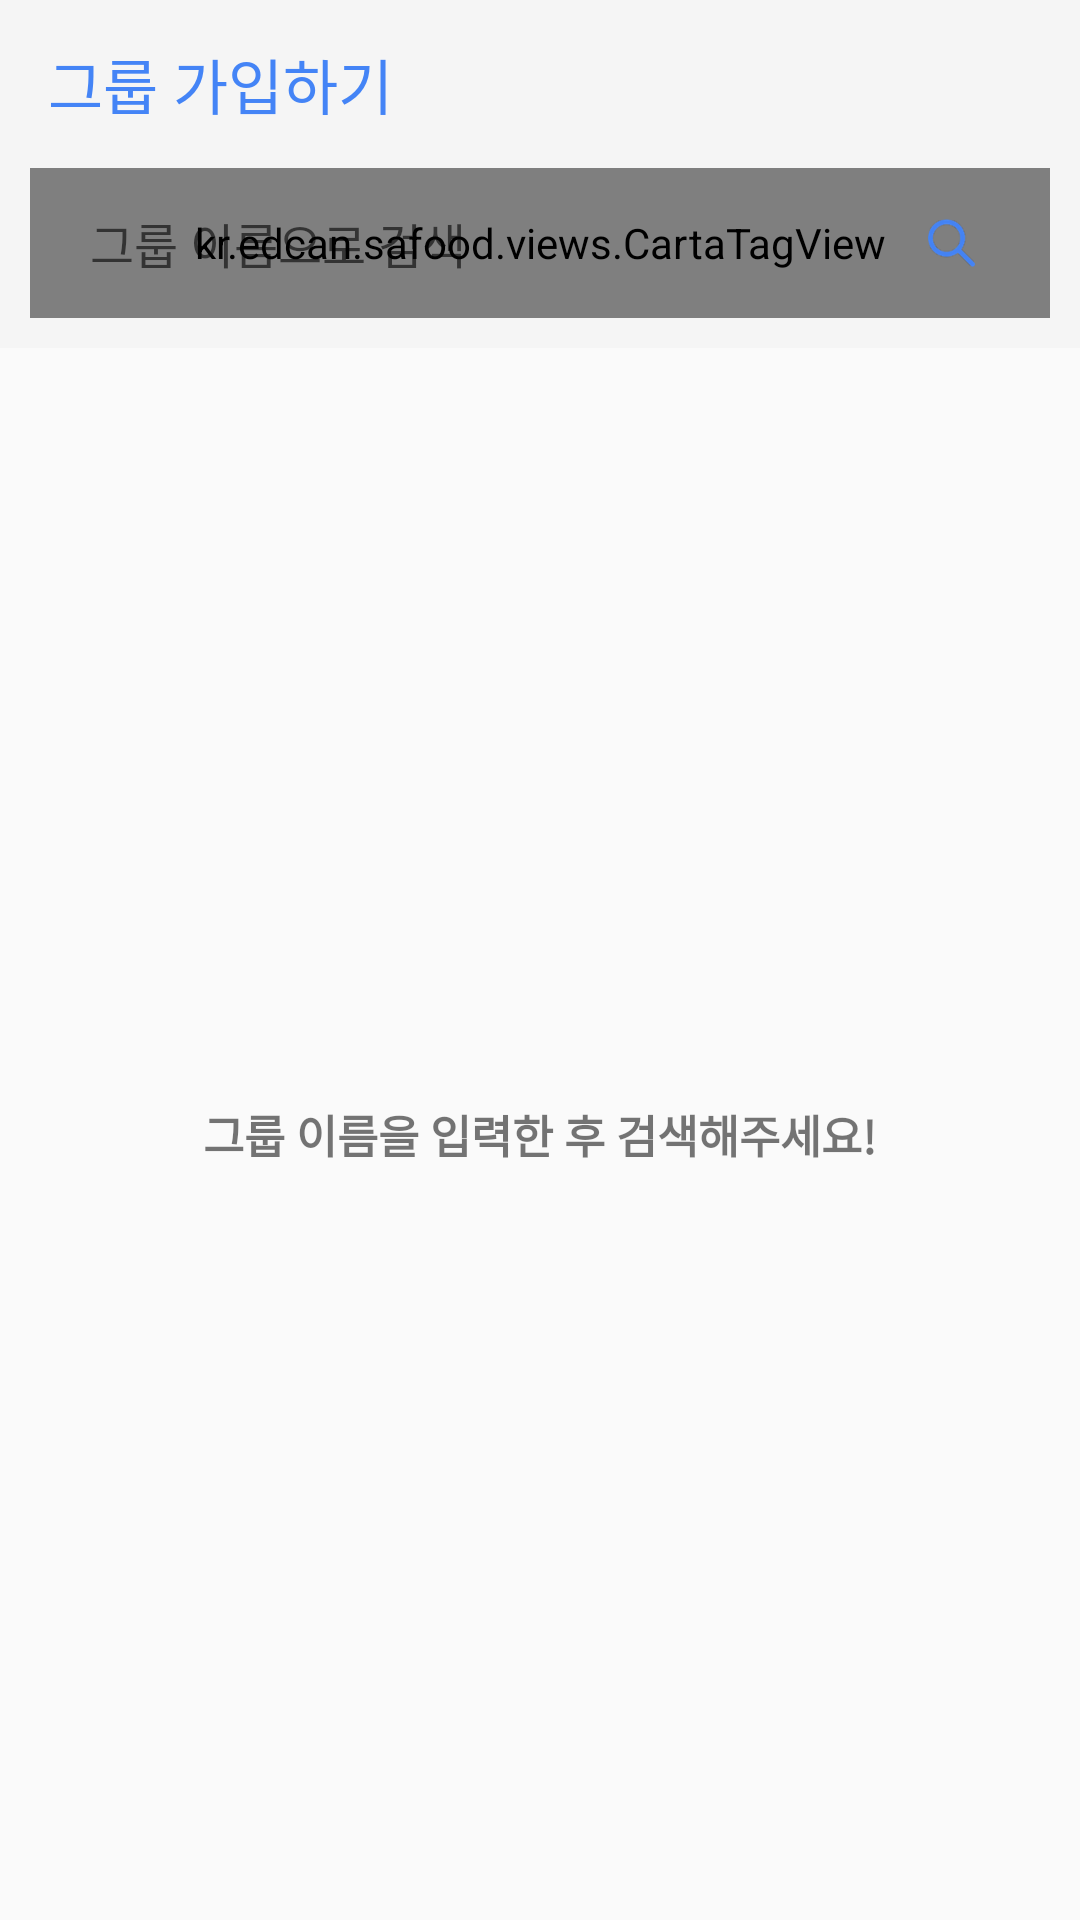

Where icons sit on this 1080 × 1920 app screen, as (x1, y1, x2, y2):
search: (928, 219, 975, 267)
